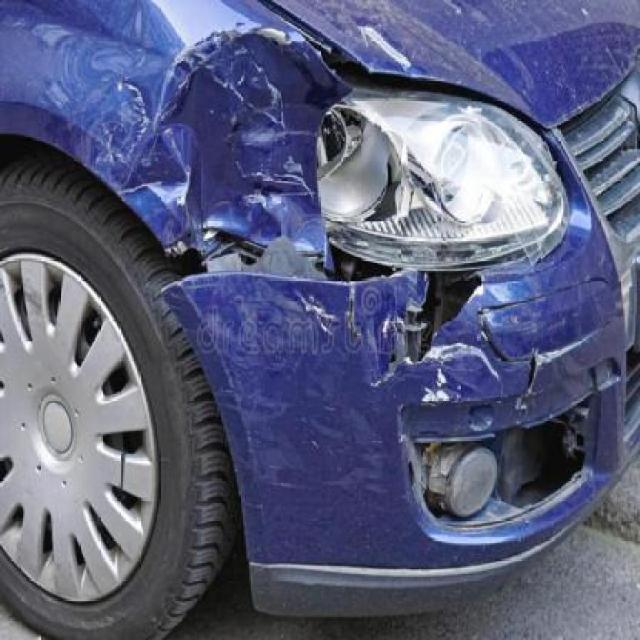Headlight-Damage: (287, 91, 566, 245)
fender-dent: (0, 0, 297, 414)
front-bumper-dent: (172, 245, 636, 629)
